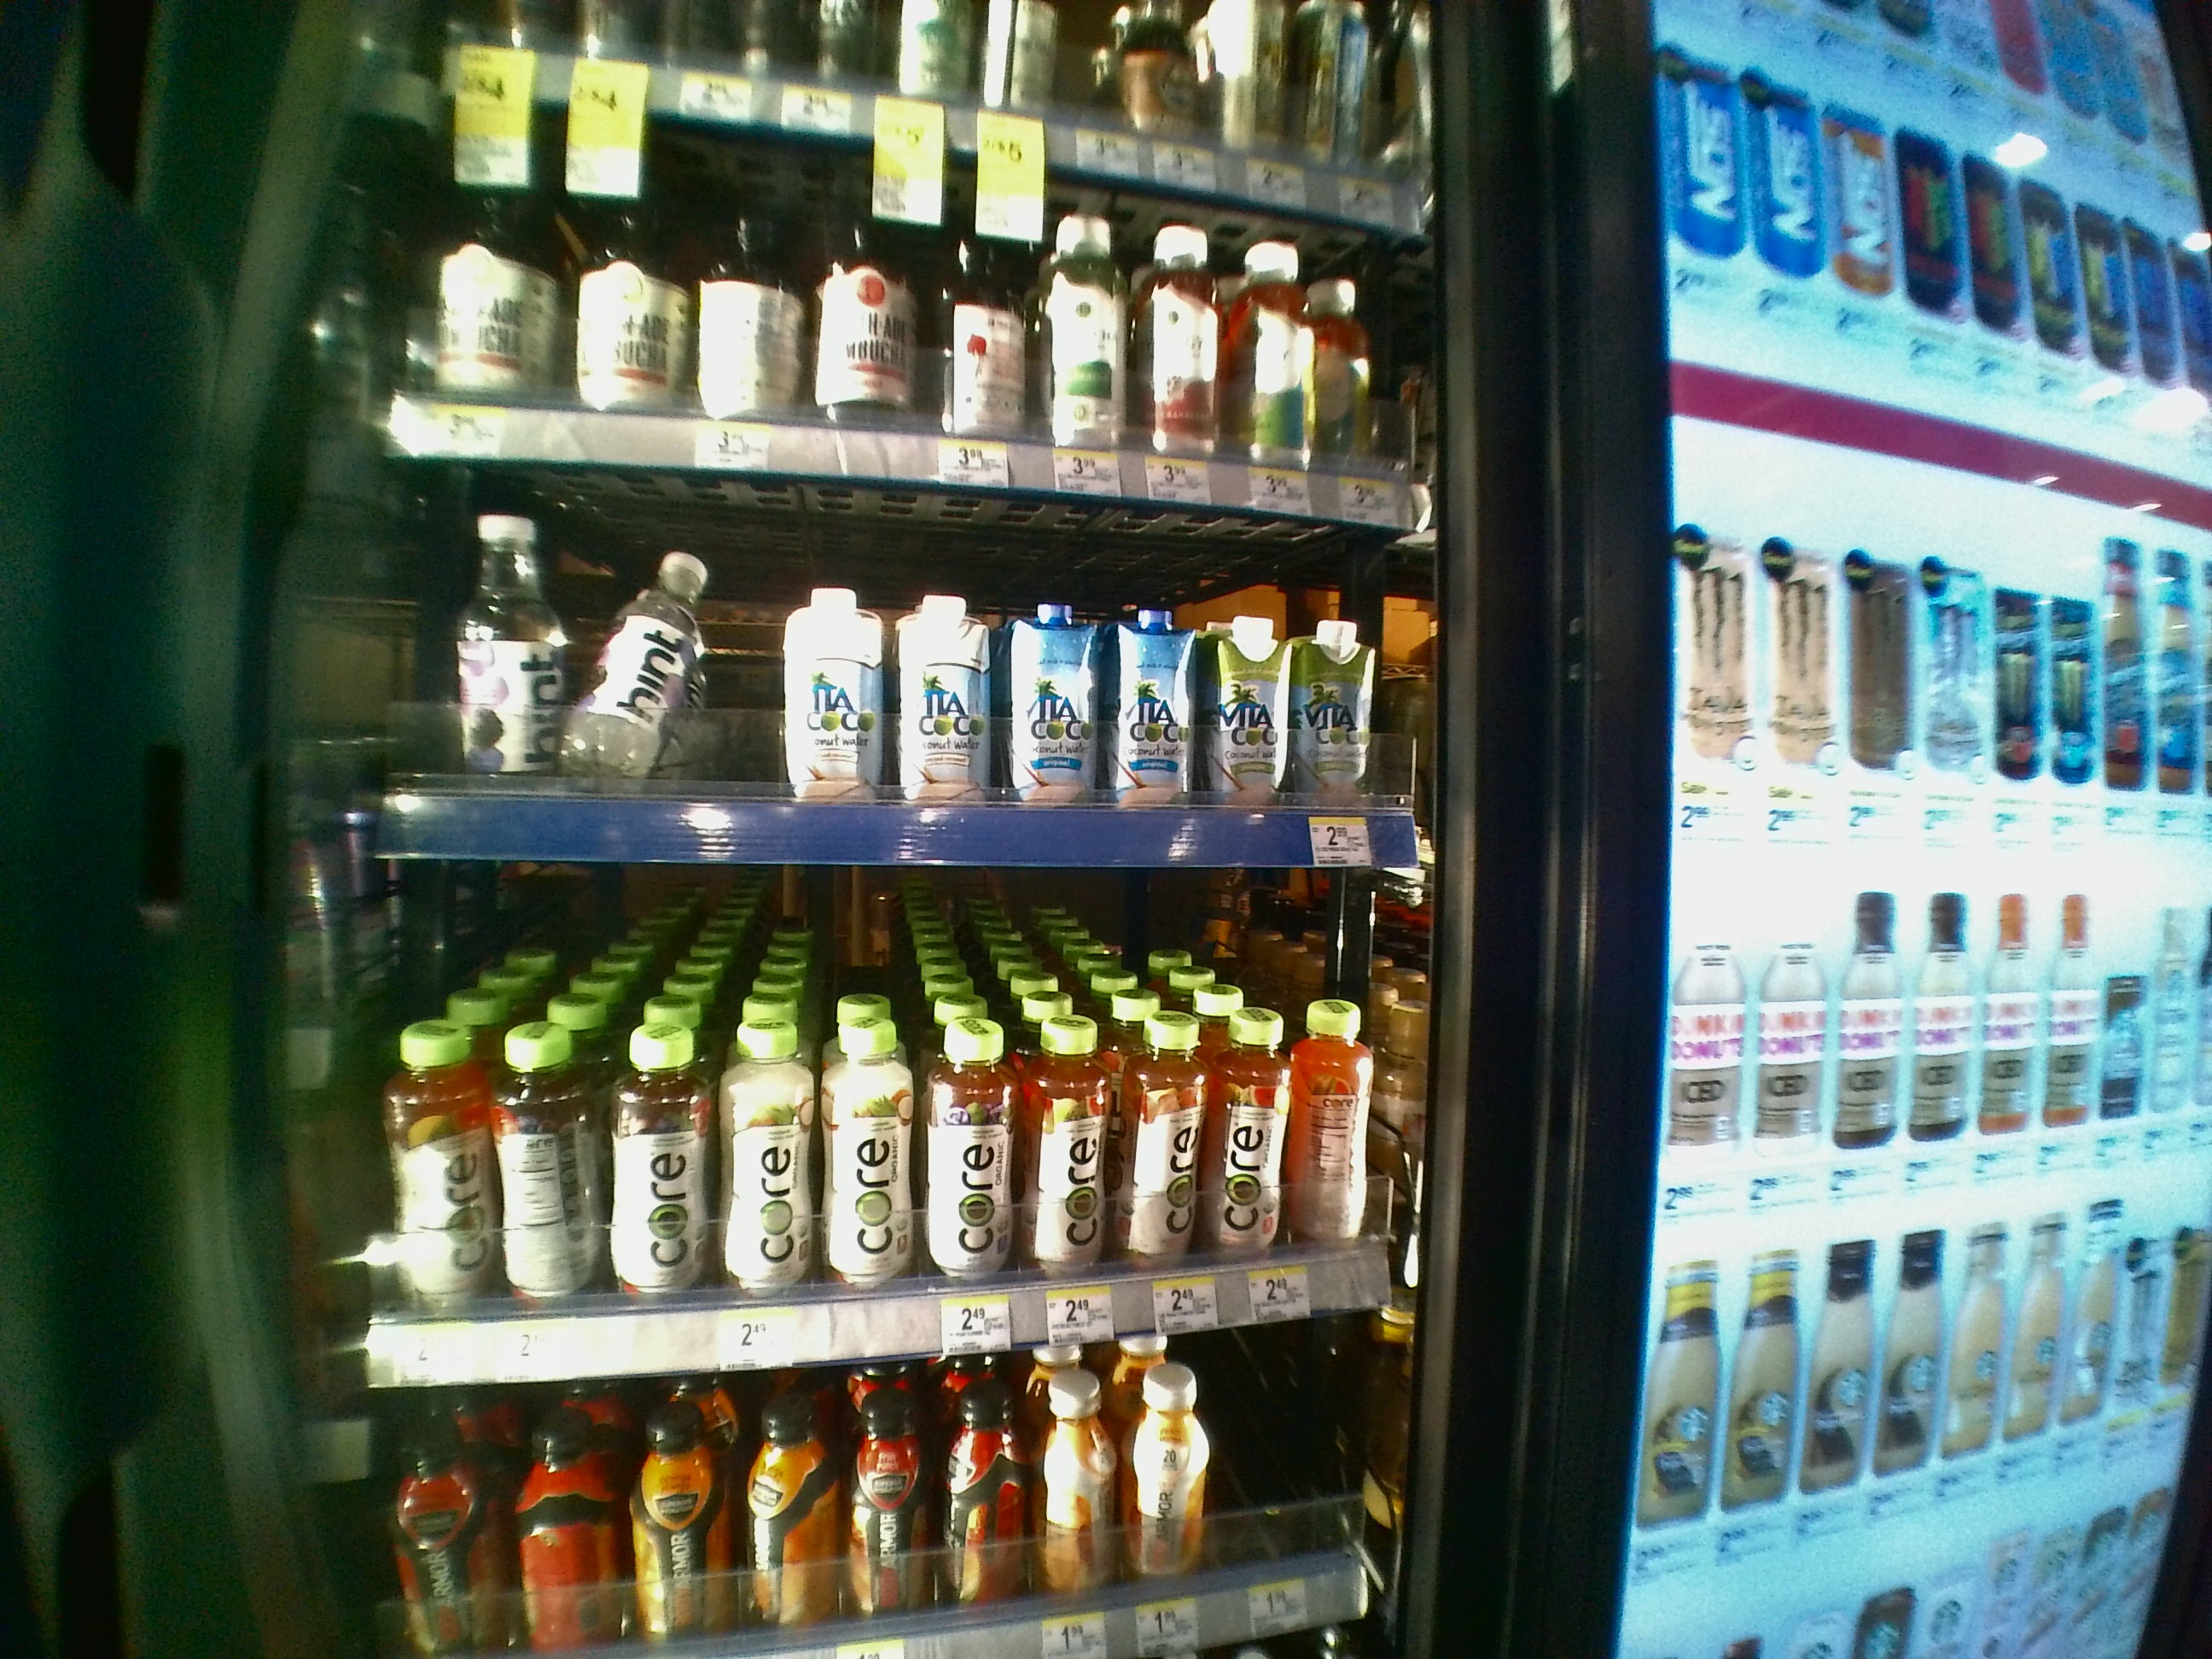shelf: (263, 864, 1458, 1345), (277, 458, 1461, 868)
